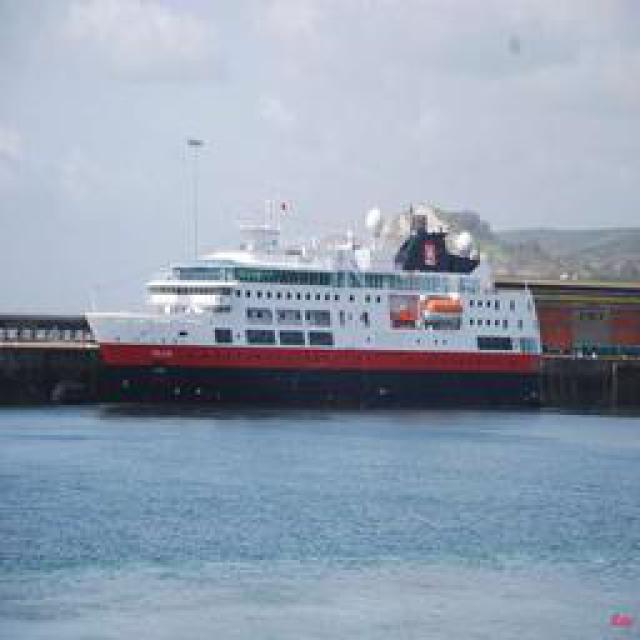Ship: (70, 194, 608, 409)
